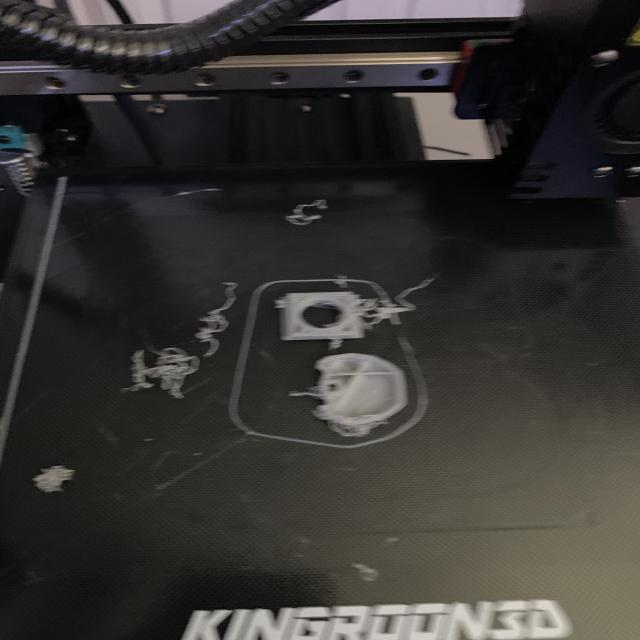spaghetti: (266, 269, 440, 442), (112, 276, 234, 408), (273, 193, 332, 229), (26, 460, 80, 494)
